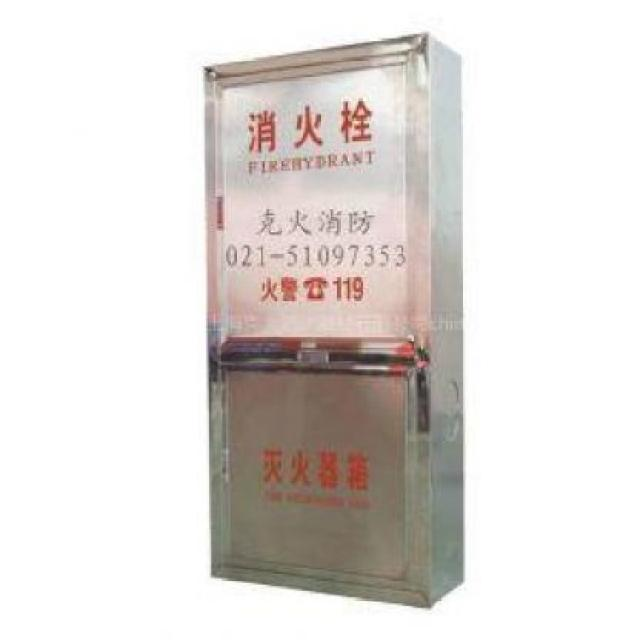firehydrant: (202, 28, 470, 615)
